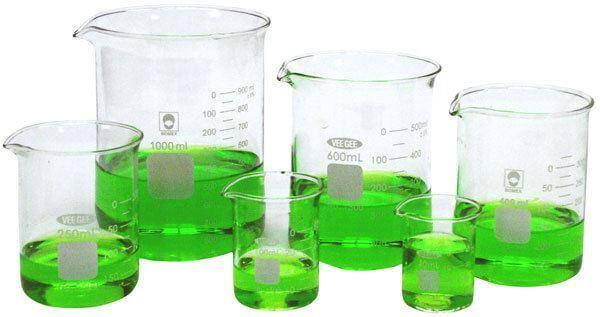Beaker: (6, 111, 146, 314), (225, 165, 324, 316), (383, 191, 486, 309)
